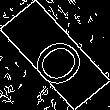O_NE: (20, 22, 90, 88)
